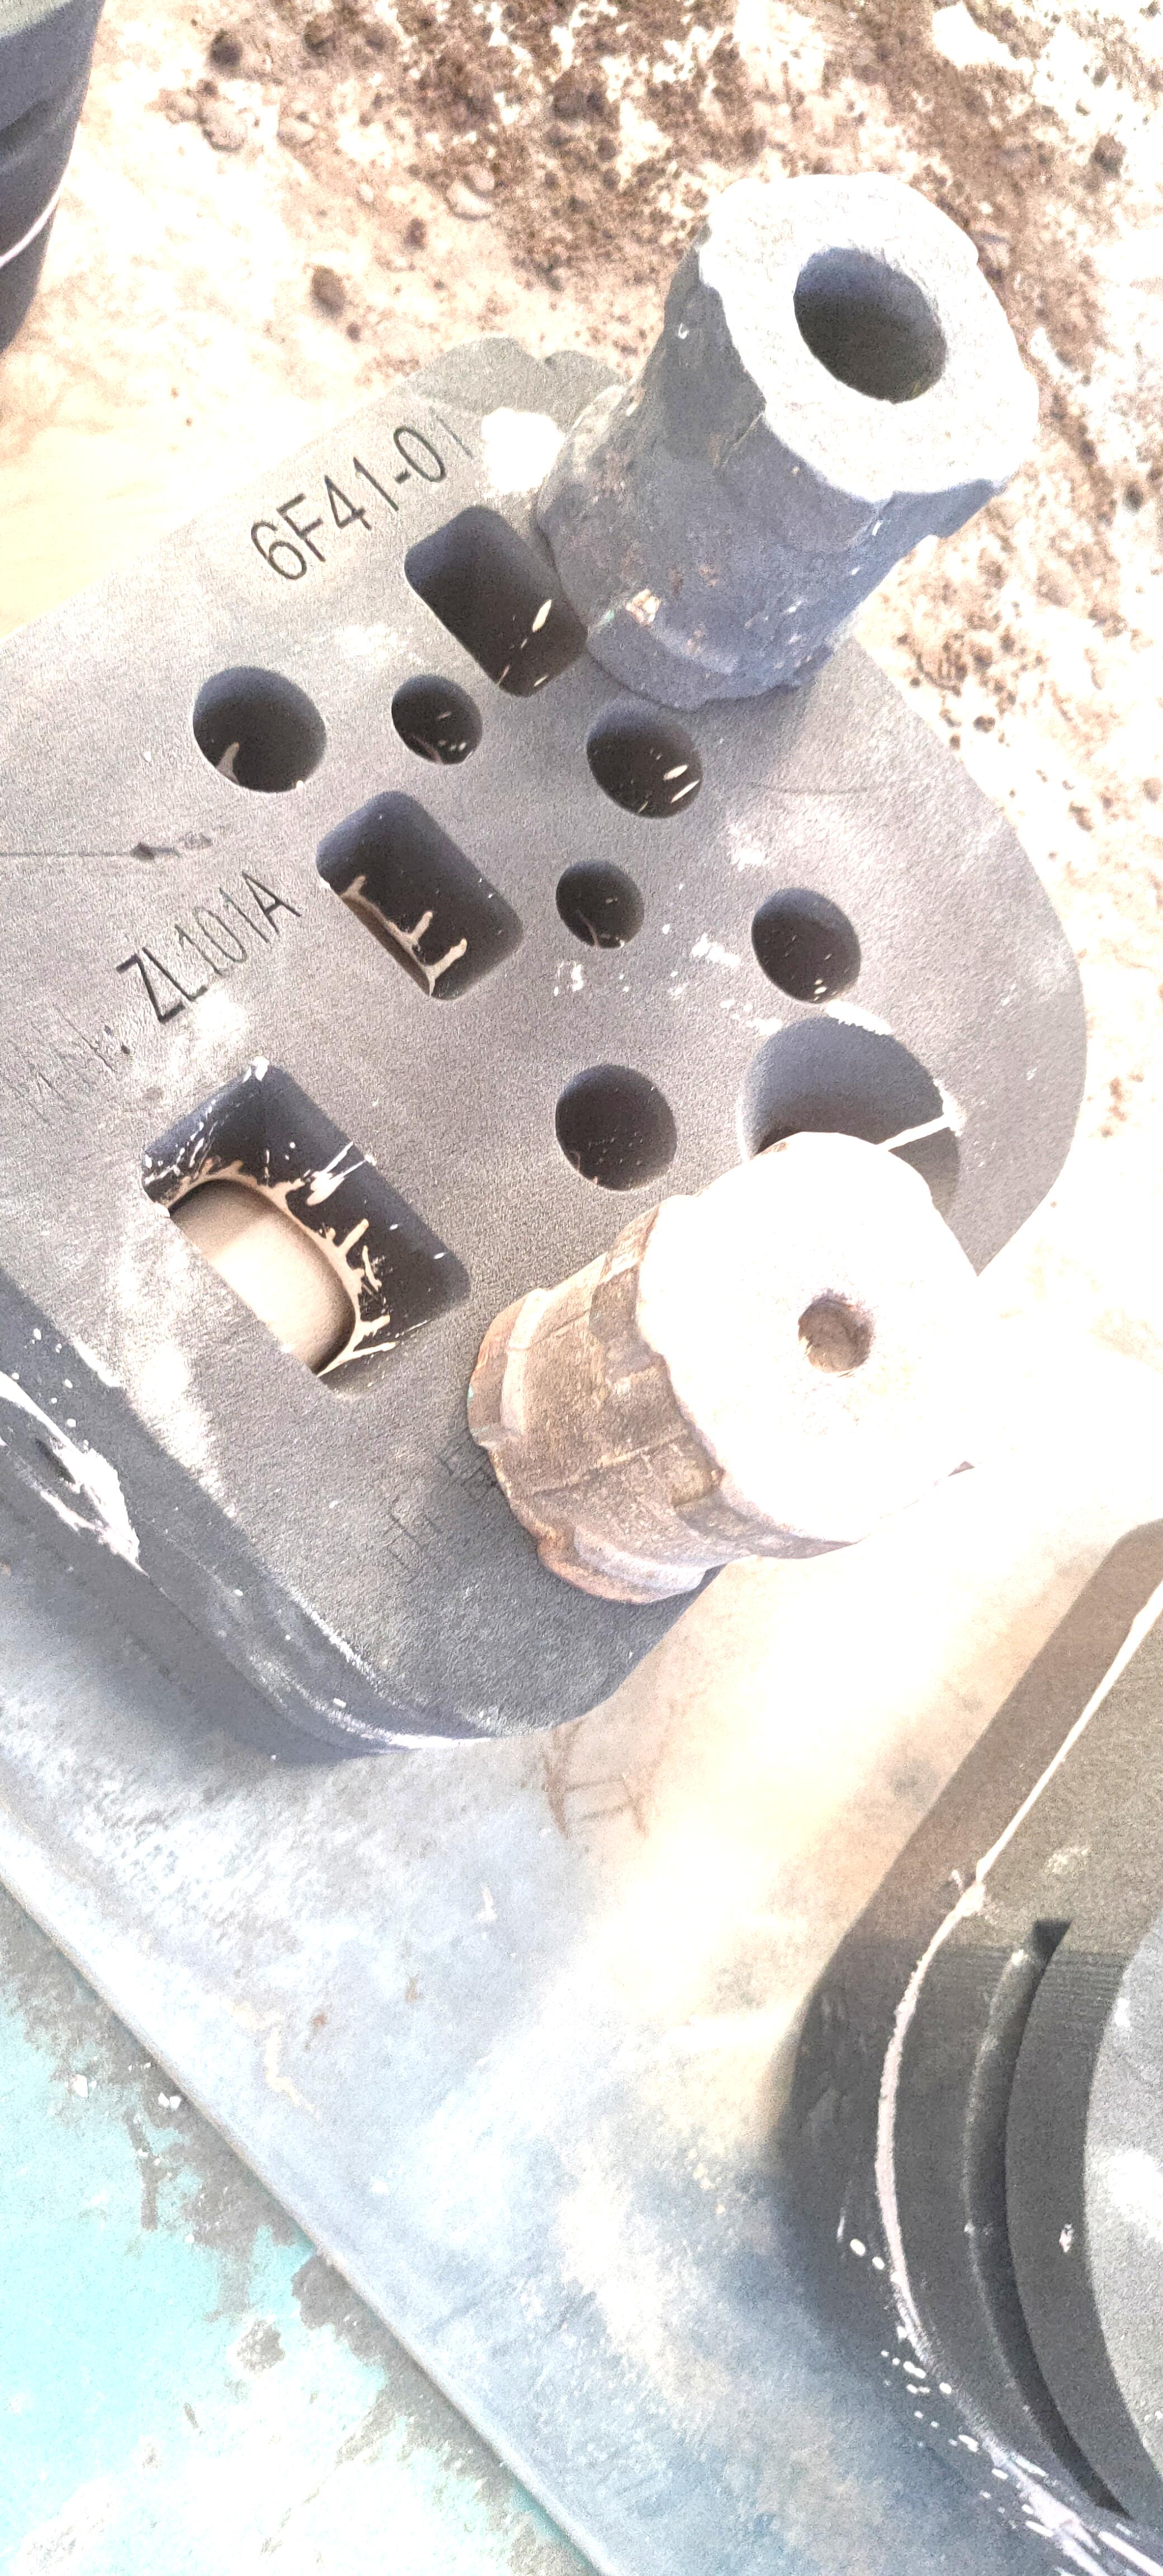pouring hole: (734, 1012, 963, 1234)
